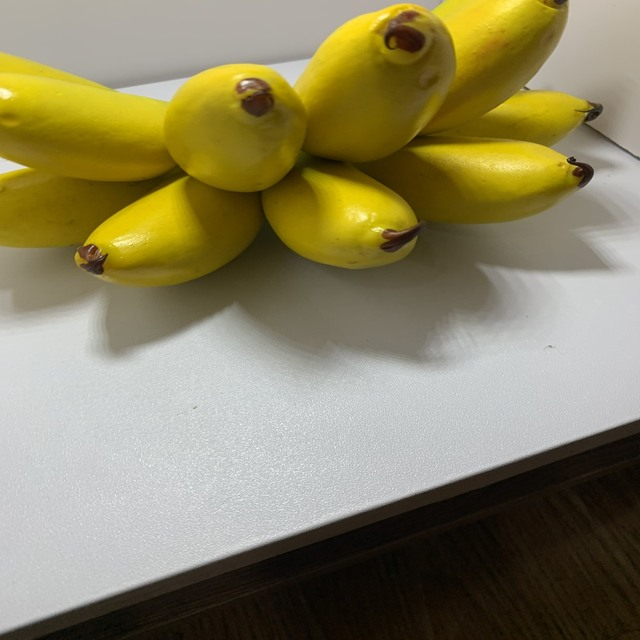Chuoi: (0, 0, 612, 294)
